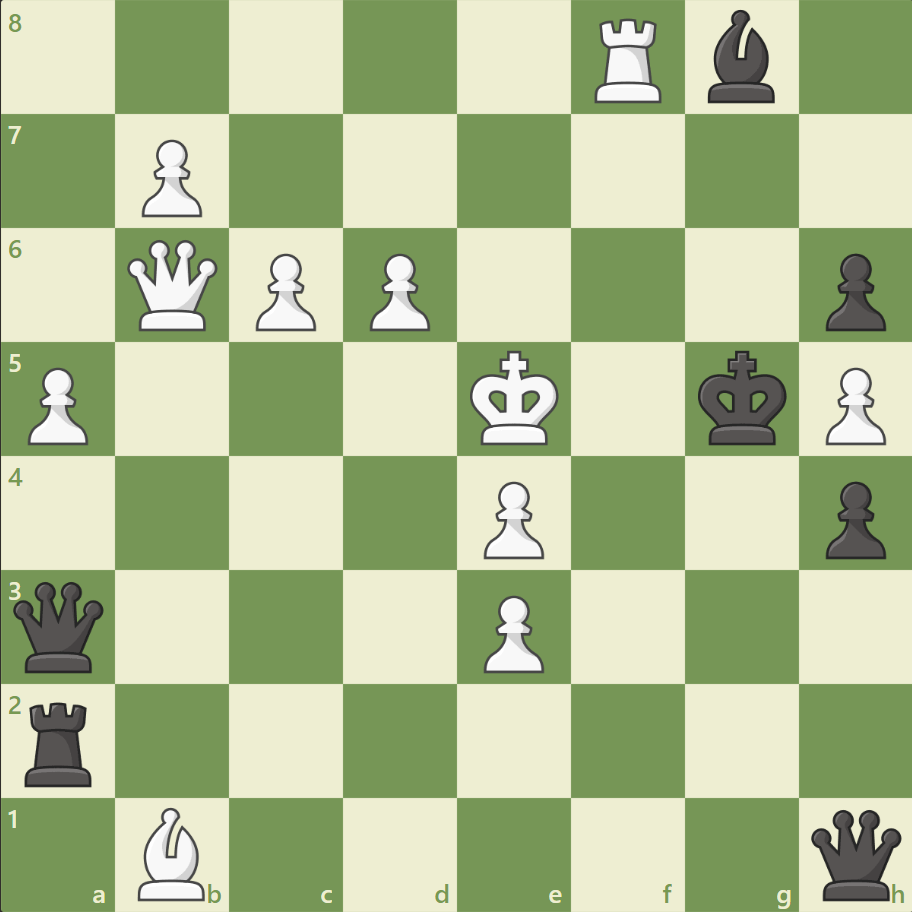B: (131, 801, 215, 904)
K: (465, 344, 565, 452)
P: (133, 132, 208, 223), (247, 246, 322, 337), (20, 359, 95, 450), (474, 473, 549, 564), (474, 586, 549, 677), (361, 246, 435, 337), (815, 359, 889, 450)
Q: (124, 236, 223, 335)
R: (587, 12, 670, 109)
b: (698, 6, 782, 109)
k: (692, 344, 792, 452)
p: (815, 246, 889, 337), (815, 473, 889, 564)
q: (10, 576, 109, 676), (805, 804, 904, 903)
r: (19, 693, 102, 790)
